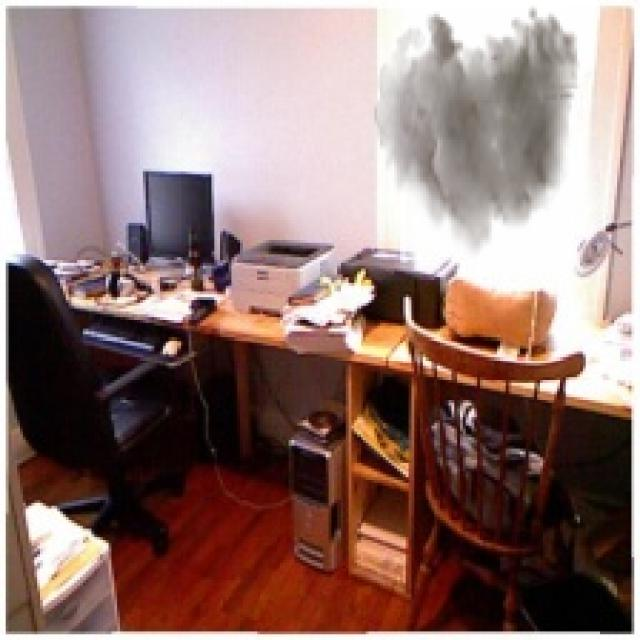smoke: (374, 6, 580, 260)
